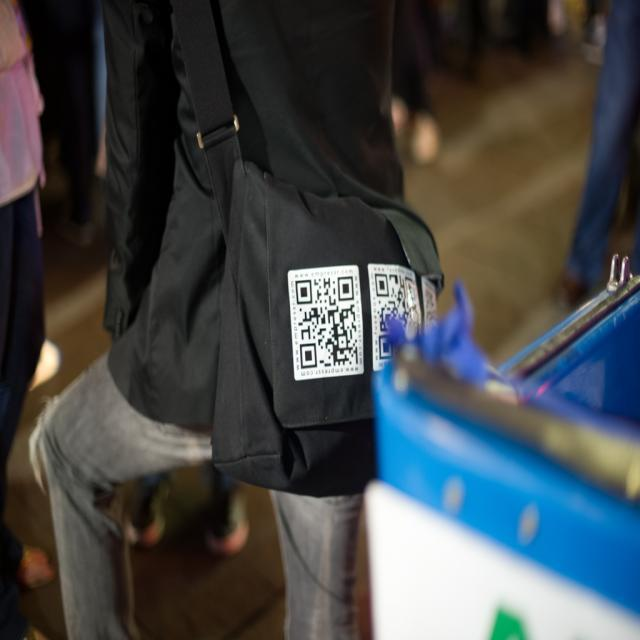qr-code: (294, 276, 358, 368), (374, 273, 419, 359), (426, 288, 438, 325)
